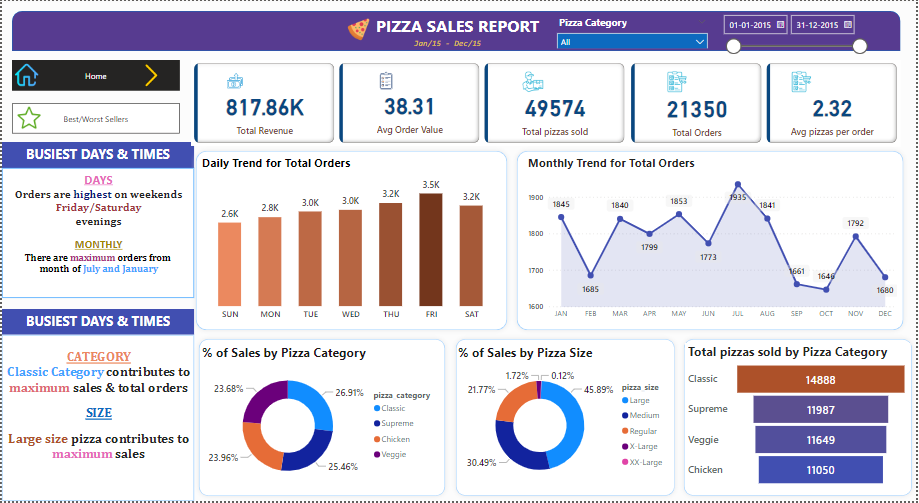

The page's visual inventory and layout, read from the dashboard file:
{"tool":"powerbi","page":{"name":"Home","canvas":[1500,820],"ordinal":0},"visuals":[{"type":"textbox","box":[0,231.2,314.9,42.6],"z":0},{"type":"cardVisual","fields":{"Data":["pizza_sales.Total Revenue","pizza_sales.Avg Order Value","pizza_sales.Total pizzas sold"]},"box":[310,96.8,716.7,141],"z":1000},{"type":"cardVisual","fields":{"Data":["pizza_sales.Total Orders","pizza_sales.Avg pizzas per order"]},"box":[1026.7,96.7,446.7,141.7],"z":2000},{"type":"shape","box":[17.1,17.1,1457.1,65.7],"z":3000},{"type":"textbox","box":[608.4,16.4,291.9,54.1],"z":4000},{"type":"textbox","box":[671.4,54.3,128.6,31.4],"z":5000},{"type":"image","box":[550,22.9,71.4,47.1],"z":6000},{"type":"shape","box":[310,237.8,526.4,310],"z":7000},{"type":"columnChart","title":"Daily Trend for Total Orders","fields":{"Category":["pizza_sales.Order day"],"Y":["pizza_sales.Total Orders"]},"box":[323.1,252.6,498.6,278.8],"z":8000},{"type":"shape","box":[836.7,238.3,650,310],"z":9000},{"type":"areaChart","title":"Monthly Trend for Total Orders","fields":{"Category":["pizza_sales.Order Month"],"Y":["pizza_sales.Total Orders"]},"box":[858.3,253.3,615,278.3],"z":10000},{"type":"shape","box":[314.9,546.1,419.8,273.9],"z":11000},{"type":"shape","box":[736.7,546.7,375,273.3],"z":12000},{"type":"shape","box":[1110,546.7,390,273.3],"z":13000},{"type":"donutChart","title":"% of Sales by Pizza Category","fields":{"Category":["pizza_sales.pizza_category"],"Y":["pizza_sales.Total Revenue"]},"box":[323.1,562.5,400.2,241.1],"z":14000},{"type":"donutChart","title":"% of Sales by Pizza Size","fields":{"Y":["pizza_sales.Total Revenue"],"Category":["pizza_sales.pizza_size"]},"box":[743.3,563.3,358.3,240],"z":15000},{"type":"funnel","title":"Total pizzas sold by Pizza Category","fields":{"Category":["pizza_sales.pizza_category"],"Y":["pizza_sales.Total pizzas sold"]},"box":[1120,561.7,370,240],"z":16000},{"type":"textbox","box":[0,273.9,314.9,213.2],"z":17000},{"type":"textbox","box":[0,505,315,41.7],"z":18000},{"type":"textbox","box":[0,547.8,314.9,272.2],"z":19000},{"type":"slicer","fields":{"Values":["pizza_sales.pizza_category"]},"box":[900,20,266.7,58.3],"z":20000},{"type":"slicer","fields":{"Values":["pizza_sales.order_date"]},"box":[1171.7,13.3,256.7,83.3],"z":21000},{"type":"pageNavigator","box":[16.7,96.7,275,50],"z":22000},{"type":"pageNavigator","box":[16.7,166.7,275,50],"z":23000},{"type":"image","box":[198.3,98.3,93.3,46.7],"z":24000},{"type":"image","box":[16.7,95,48.3,51.7],"z":25000},{"type":"image","box":[16.7,166.7,56.7,48.3],"z":26000}]}

Visuals, with their boxes in screenshot pixels (x1, y1, x2, y2), scaled from the page's 1500x820 canvas onto the 919x503 screenshot:
textbox: BBox(0, 142, 193, 168)
cardVisual - pizza_sales.Total Revenue x pizza_sales.Avg Order Value: BBox(190, 59, 629, 146)
cardVisual - pizza_sales.Total Orders x pizza_sales.Avg pizzas per order: BBox(629, 59, 903, 146)
shape: BBox(10, 10, 903, 51)
textbox: BBox(373, 10, 552, 43)
textbox: BBox(411, 33, 490, 53)
image: BBox(337, 14, 381, 43)
shape: BBox(190, 146, 512, 336)
"Daily Trend for Total Orders" columnChart: BBox(198, 155, 503, 326)
shape: BBox(513, 146, 911, 336)
"Monthly Trend for Total Orders" areaChart: BBox(526, 155, 903, 326)
shape: BBox(193, 335, 450, 502)
shape: BBox(451, 335, 681, 502)
shape: BBox(680, 335, 918, 502)
"% of Sales by Pizza Category" donutChart: BBox(198, 345, 443, 493)
"% of Sales by Pizza Size" donutChart: BBox(455, 346, 675, 493)
"Total pizzas sold by Pizza Category" funnel: BBox(686, 345, 913, 492)
textbox: BBox(0, 168, 193, 299)
textbox: BBox(0, 310, 193, 335)
textbox: BBox(0, 336, 193, 502)
slicer - pizza_sales.pizza_category: BBox(551, 12, 715, 48)
slicer - pizza_sales.order_date: BBox(718, 8, 875, 59)
pageNavigator: BBox(10, 59, 179, 90)
pageNavigator: BBox(10, 102, 179, 133)
image: BBox(121, 60, 179, 89)
image: BBox(10, 58, 40, 90)
image: BBox(10, 102, 45, 132)
